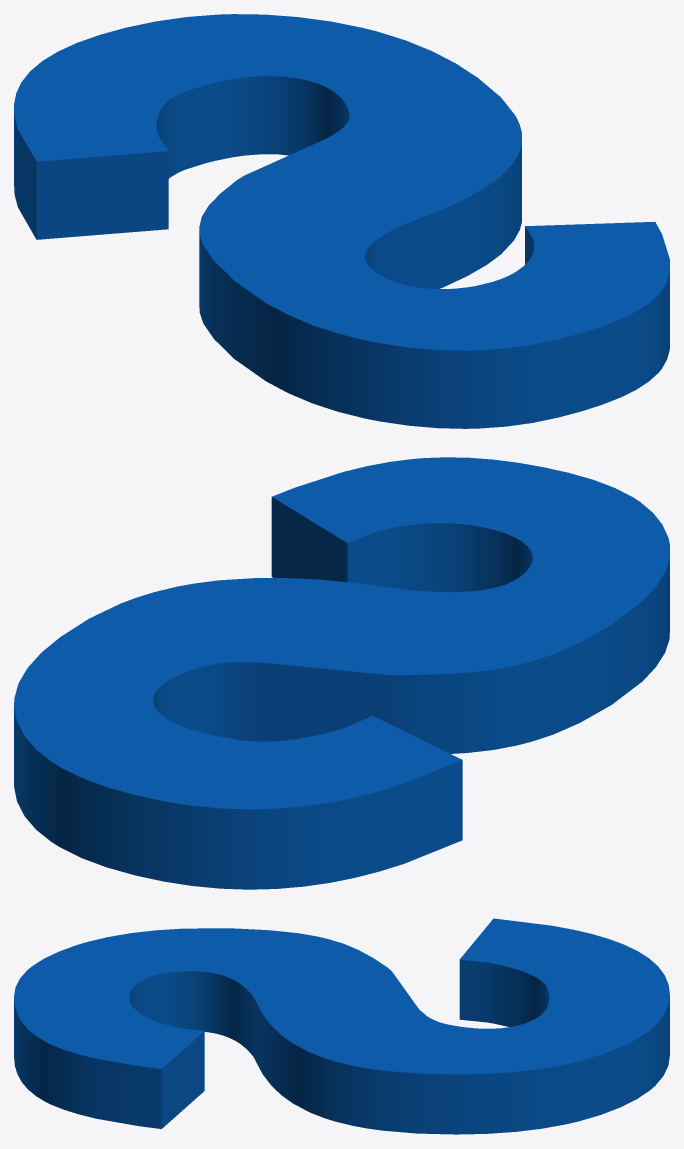
3 renders of one model, top to bottom at view 1: azimuth 30°, elevation 25°; view 2: azimuth 150°, elevation 25°; view 3: azimuth 270°, elevation 25°, orthographic. The views are drawn at different scales.
Parts seen in each view (by area): view 1: s; view 2: s; view 3: s.
Boxes of the visible parts, x1,y1,x2,y2 form: s: (14,14,669,428); s: (14,457,669,889); s: (14,918,669,1134).
Bounding box in the file's own units: 1.39 × 0.25 × 2.48.
